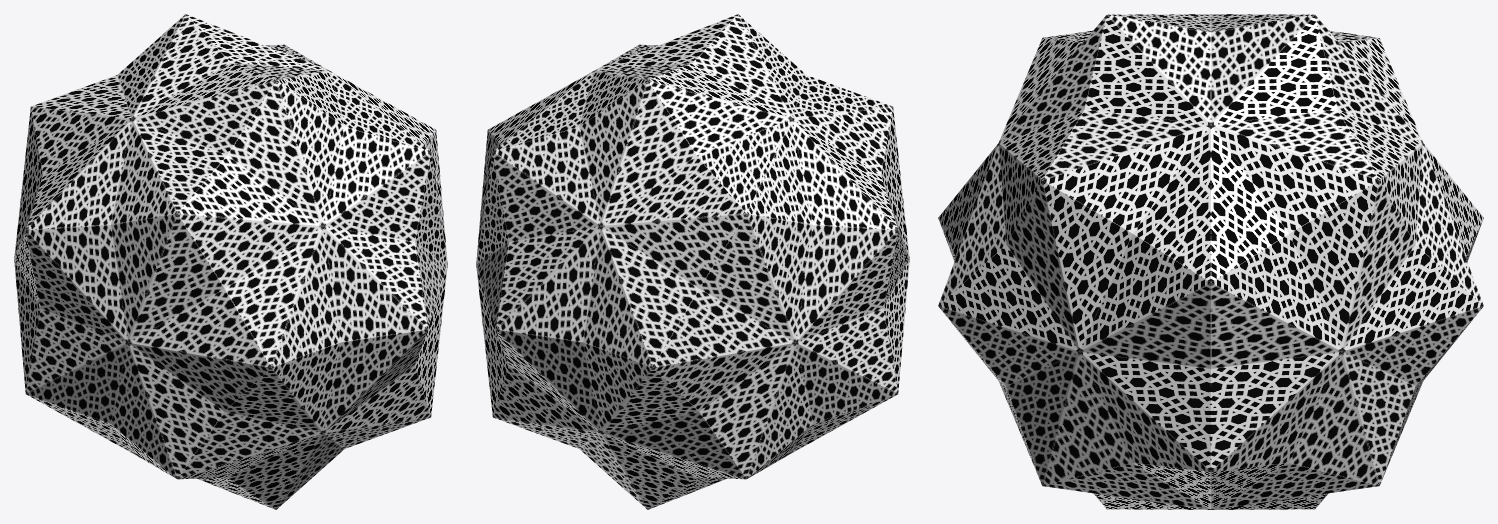
File: small-icosacronic-hexacontahedron.gltf
The picture shows the model from 3 angles, left to right: view 1: azimuth 30°, elevation 25°; view 2: azimuth 150°, elevation 25°; view 3: azimuth 270°, elevation 25°; orthographic projection. The views are drawn at different scales.
Parts seen in each view (by area): view 1: Small Icosacronic Hexecontahedron (Dual of 5/2.6.3.6), WD71,; view 2: Small Icosacronic Hexecontahedron (Dual of 5/2.6.3.6), WD71,; view 3: Small Icosacronic Hexecontahedron (Dual of 5/2.6.3.6), WD71,.
Boxes of the visible parts, bbox=[...] form: Small Icosacronic Hexecontahedron (Dual of 5/2.6.3.6), WD71,: bbox=[14, 14, 447, 509]; Small Icosacronic Hexecontahedron (Dual of 5/2.6.3.6), WD71,: bbox=[476, 14, 909, 509]; Small Icosacronic Hexecontahedron (Dual of 5/2.6.3.6), WD71,: bbox=[938, 14, 1483, 509].
Size of the model in its own units: 29.12 by 29.12 by 29.12.
Materials: 1 (1 with a texture image).
